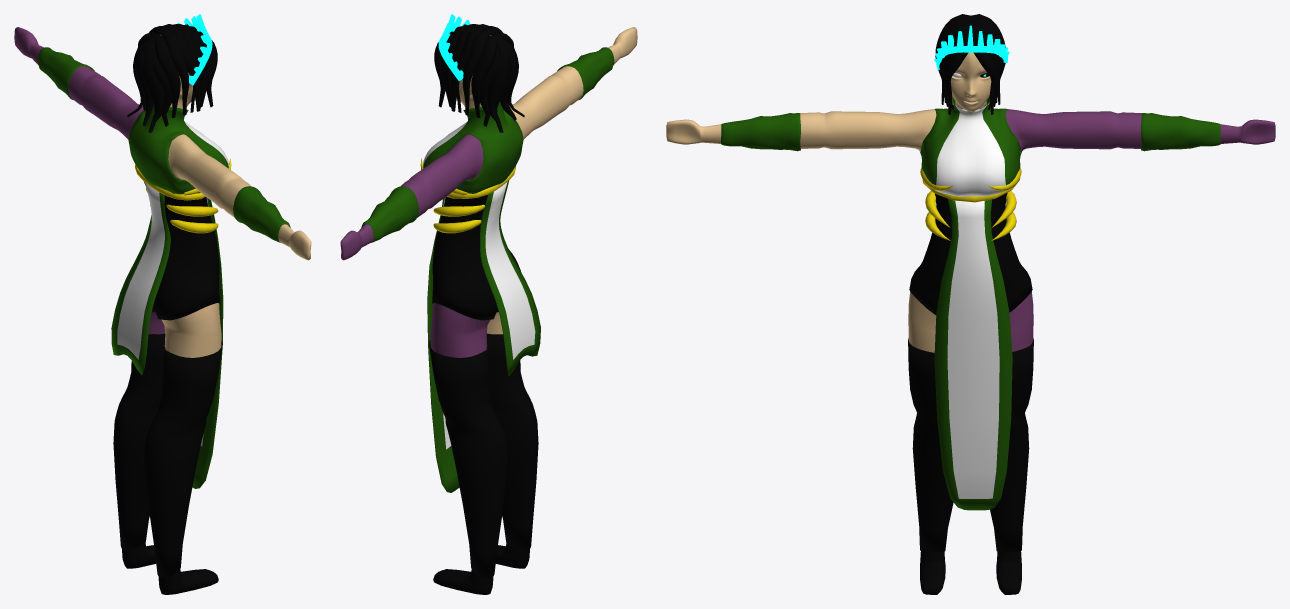
The model's file is Hella.fbx.
3 renders of one model, left to right at view 1: azimuth 30°, elevation 25°; view 2: azimuth 150°, elevation 25°; view 3: azimuth 270°, elevation 25°, orthographic. The views are drawn at different scales.
Visible parts, largest first — view 1: Plane.006, Plane.004, Plane.007, Plane.009, Plane.010, Plane.005, Plane.008, NurbsPath.020, NurbsPath.008, NurbsPath.007, Cube.001, NurbsPath.009 (+6 smaller); view 2: Plane.006, Plane.004, Plane.009, Plane.007, Plane.010, Plane.005, Plane.008, NurbsPath.020, NurbsPath.008, NurbsPath.007, Cube.001, NurbsPath.006 (+5 smaller); view 3: Plane.008, Plane.004, Plane.006, Plane.010, Plane.005, Plane.007, Cube.001, NurbsPath.003.
Boxes of the visible parts, box(x1,y1,x2,y2) form: Plane.006: box(113, 333, 222, 577); Plane.004: box(14, 27, 311, 594); Plane.007: box(152, 195, 219, 320); Plane.009: box(111, 182, 170, 375); Plane.010: box(128, 104, 229, 194); Plane.005: box(37, 47, 290, 242); Plane.008: box(192, 197, 223, 488); NurbsPath.020: box(127, 37, 164, 132); NurbsPath.008: box(138, 32, 180, 117); NurbsPath.007: box(149, 25, 189, 115); Cube.001: box(177, 14, 212, 85); NurbsPath.009: box(143, 47, 172, 126); Plane.006: box(429, 333, 538, 577); Plane.004: box(340, 27, 637, 594); Plane.009: box(480, 180, 540, 375); Plane.007: box(432, 194, 520, 320); Plane.010: box(422, 102, 523, 193); Plane.005: box(361, 47, 614, 242); Plane.008: box(427, 197, 459, 492); NurbsPath.020: box(487, 37, 524, 132); NurbsPath.008: box(471, 32, 513, 117); NurbsPath.007: box(462, 26, 503, 115); Cube.001: box(438, 14, 469, 80); NurbsPath.006: box(453, 24, 488, 112); Plane.008: box(934, 198, 1012, 510); Plane.004: box(666, 52, 1275, 594); Plane.006: box(908, 338, 1033, 551); Plane.010: box(920, 96, 1021, 196); Plane.005: box(721, 113, 1220, 151); Plane.007: box(909, 192, 1032, 315); Cube.001: box(934, 25, 1009, 69); NurbsPath.003: box(944, 45, 997, 114).
Bounding box in the file's own units: 159 × 892 × 856.
